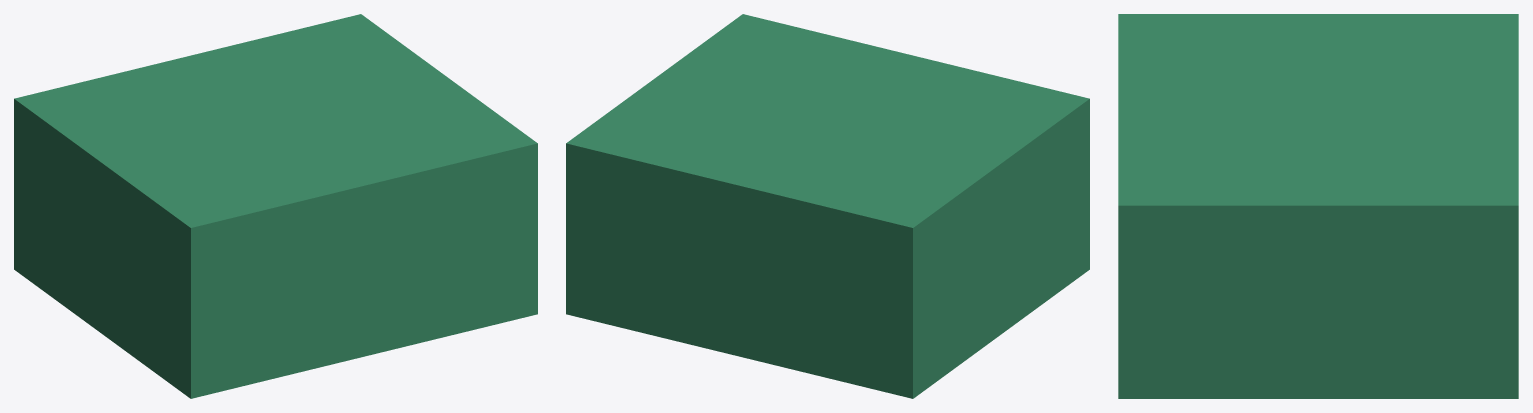
Rendered from democrite_2.glb.
The picture shows the model from 3 angles, left to right: view 1: azimuth 30°, elevation 25°; view 2: azimuth 150°, elevation 25°; view 3: azimuth 270°, elevation 25°; orthographic projection. The views are drawn at different scales.
Parts seen in each view (by area): view 1: Mesh_Mesh_head_geo.001_lambert2SG.001; view 2: Mesh_Mesh_head_geo.001_lambert2SG.001; view 3: Mesh_Mesh_head_geo.001_lambert2SG.001.
Part boxes in pixels (bbox=[...]): Mesh_Mesh_head_geo.001_lambert2SG.001: bbox=[14, 14, 537, 398]; Mesh_Mesh_head_geo.001_lambert2SG.001: bbox=[566, 14, 1089, 398]; Mesh_Mesh_head_geo.001_lambert2SG.001: bbox=[1118, 14, 1518, 398].
Size of the model in its own units: 34 by 16 by 30.
